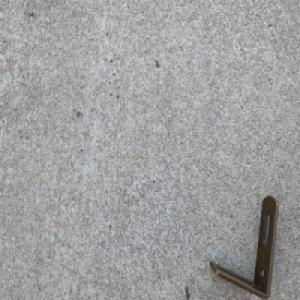MetalPart: (208, 193, 279, 300)
